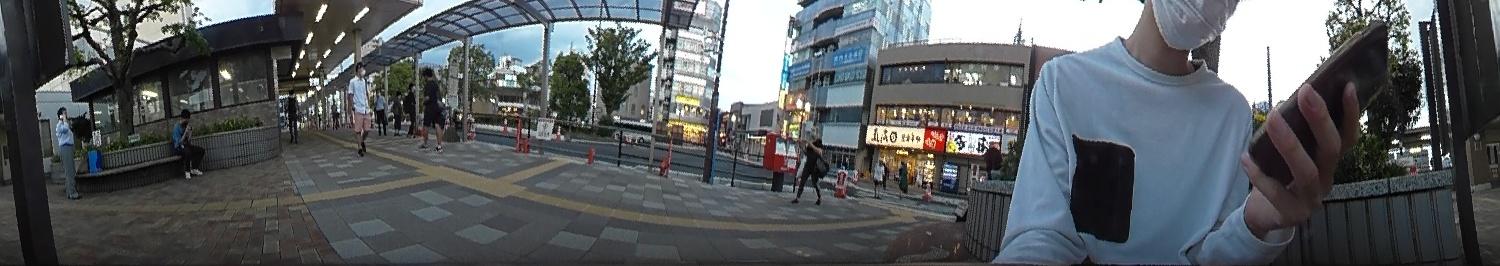difficult_person: (952, 141, 1005, 222), (403, 78, 421, 137), (284, 88, 302, 146), (371, 87, 390, 135), (389, 86, 404, 135), (895, 156, 909, 197), (871, 155, 886, 192)
person: (412, 61, 449, 151), (789, 124, 829, 206), (52, 104, 87, 194), (342, 59, 374, 153), (170, 105, 207, 179)
